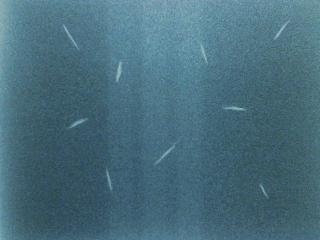scratch: (142, 138, 192, 168), (56, 17, 87, 57), (98, 164, 123, 200), (109, 55, 129, 94), (270, 16, 292, 46), (218, 99, 251, 119), (253, 178, 277, 205), (192, 41, 215, 69), (64, 113, 93, 133)
